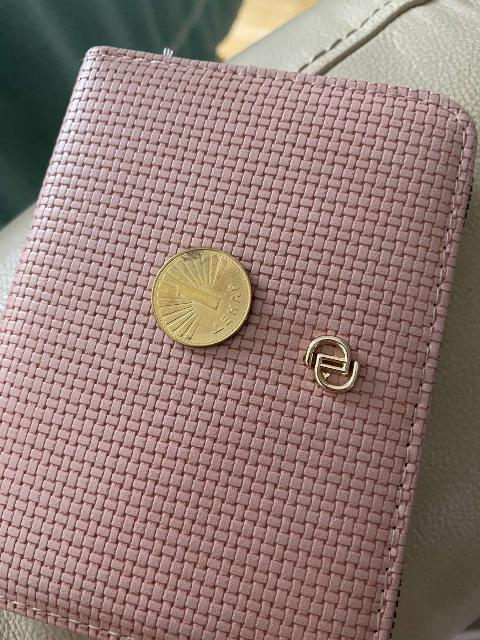1_coin: (152, 248, 251, 346)
